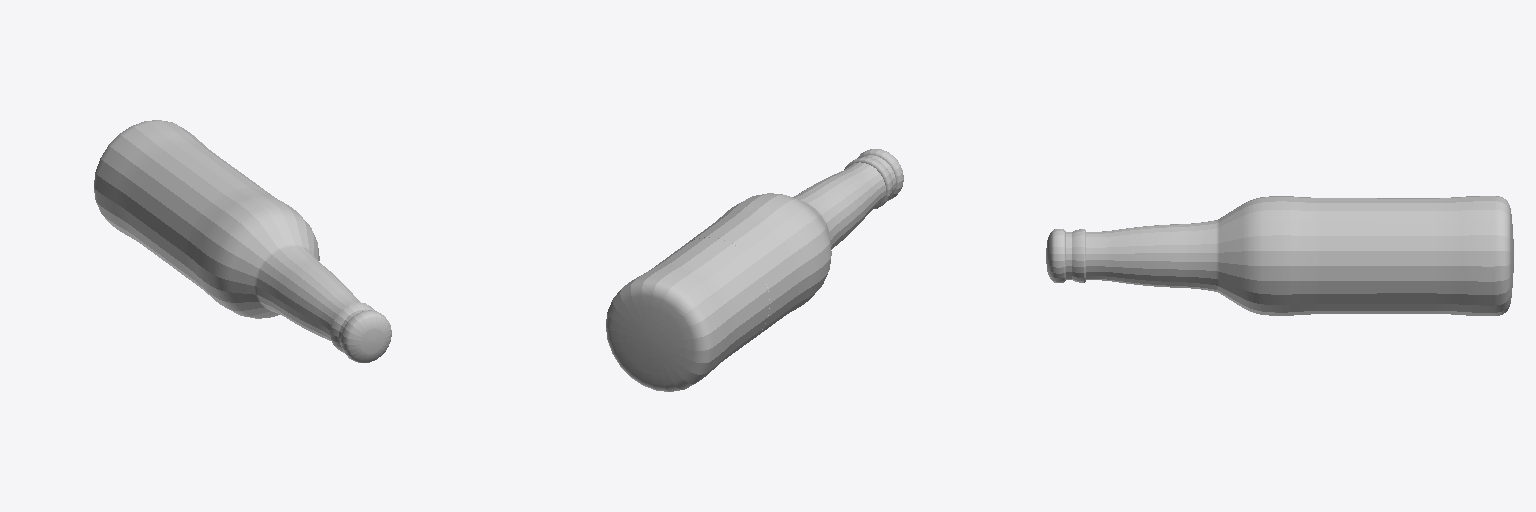
File: beer_bottle.obj
The picture shows the model from 3 angles: view 1: azimuth 30°, elevation 25°; view 2: azimuth 150°, elevation 25°; view 3: azimuth 270°, elevation 25°; orthographic projection.
Parts seen in each view (by area): view 1: MeshFeature1_2, MeshFeature1_1, MeshFeature1_3, MeshFeature1_7, MeshFeature1_5; view 2: MeshFeature1_1, MeshFeature1_2, MeshFeature1_3, MeshFeature1_5, MeshFeature1_7; view 3: MeshFeature1_2, MeshFeature1_1, MeshFeature1_3, MeshFeature1_5, MeshFeature1_7.
Boxes of the visible parts, x1,y1,x2,y2 form: MeshFeature1_2: [157, 166, 340, 329]; MeshFeature1_1: [94, 120, 240, 264]; MeshFeature1_3: [94, 120, 337, 324]; MeshFeature1_7: [301, 280, 391, 362]; MeshFeature1_5: [300, 279, 374, 352]; MeshFeature1_1: [606, 237, 769, 391]; MeshFeature1_2: [688, 178, 862, 337]; MeshFeature1_3: [606, 179, 862, 391]; MeshFeature1_5: [827, 155, 895, 222]; MeshFeature1_7: [826, 149, 903, 220]; MeshFeature1_2: [1142, 196, 1376, 315]; MeshFeature1_1: [1377, 196, 1513, 315]; MeshFeature1_3: [1142, 196, 1513, 315]; MeshFeature1_5: [1066, 227, 1141, 284]; MeshFeature1_7: [1046, 227, 1141, 284].
Bounding box in the file's own units: 34.89 × 34.89 × 135.